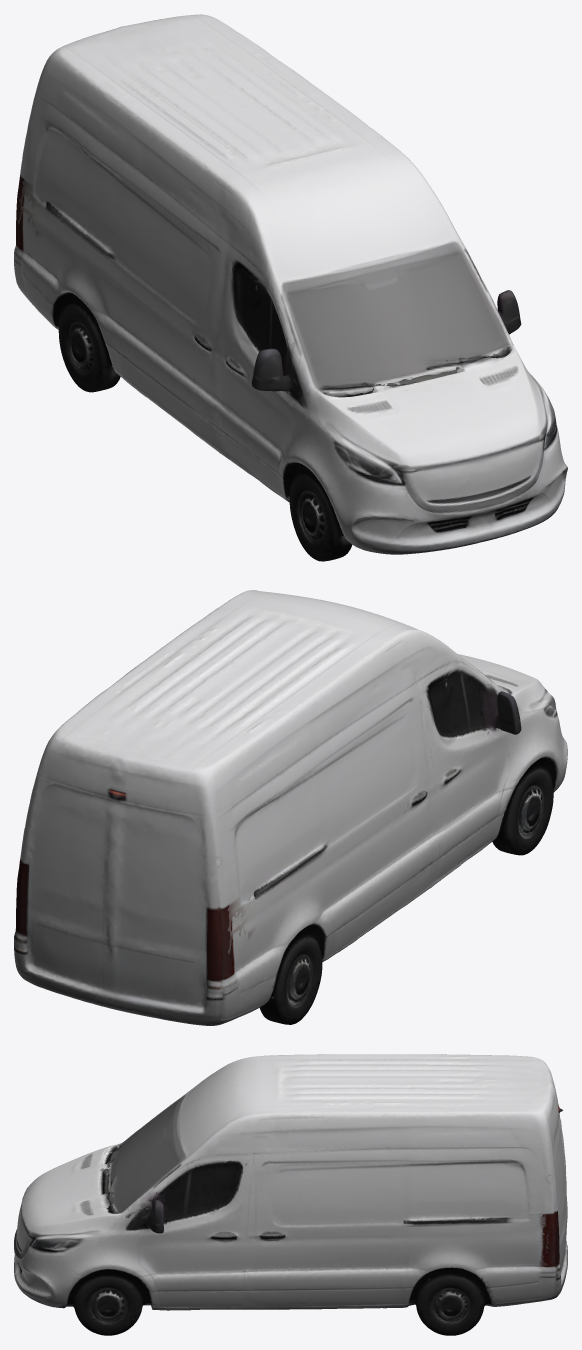
File: van.glb
3 views of the same model, one above another, from view 1: azimuth 30°, elevation 25°; view 2: azimuth 150°, elevation 25°; view 3: azimuth 270°, elevation 25° (orthographic). The views are drawn at different scales.
Visible parts, largest first — view 1: input; view 2: input; view 3: input.
Boxes of the visible parts, left/top/right/bottom form: input: left=14, top=14, right=567, bottom=561; input: left=14, top=590, right=567, bottom=1025; input: left=14, top=1054, right=567, bottom=1335.
Size of the model in its own units: 2.42 by 2.54 by 5.9.
Materials: 1 (1 with a texture image).
